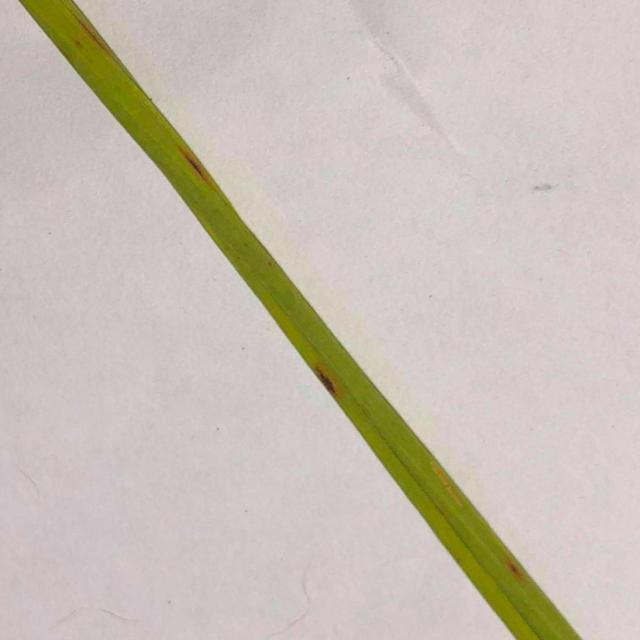Brown spot: (13, 0, 580, 640)
